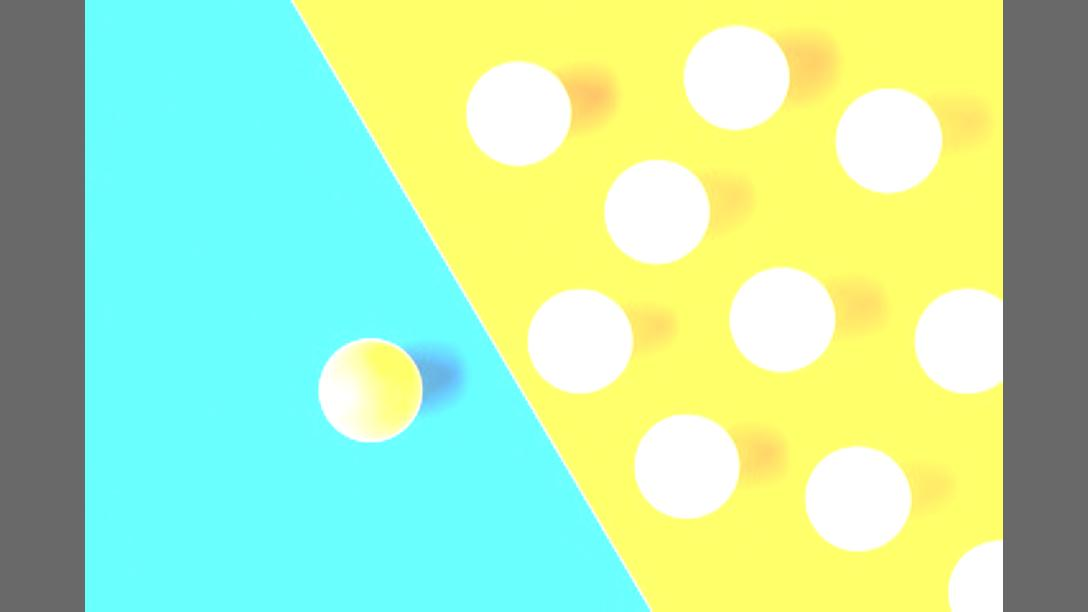Table-Tennis-Ball: (604, 160, 708, 264), (528, 292, 632, 394), (636, 415, 738, 518), (468, 64, 570, 166), (731, 270, 833, 370), (808, 449, 908, 550), (688, 30, 790, 129), (840, 93, 940, 193), (321, 340, 419, 442), (914, 291, 1001, 393), (950, 540, 1003, 612)
